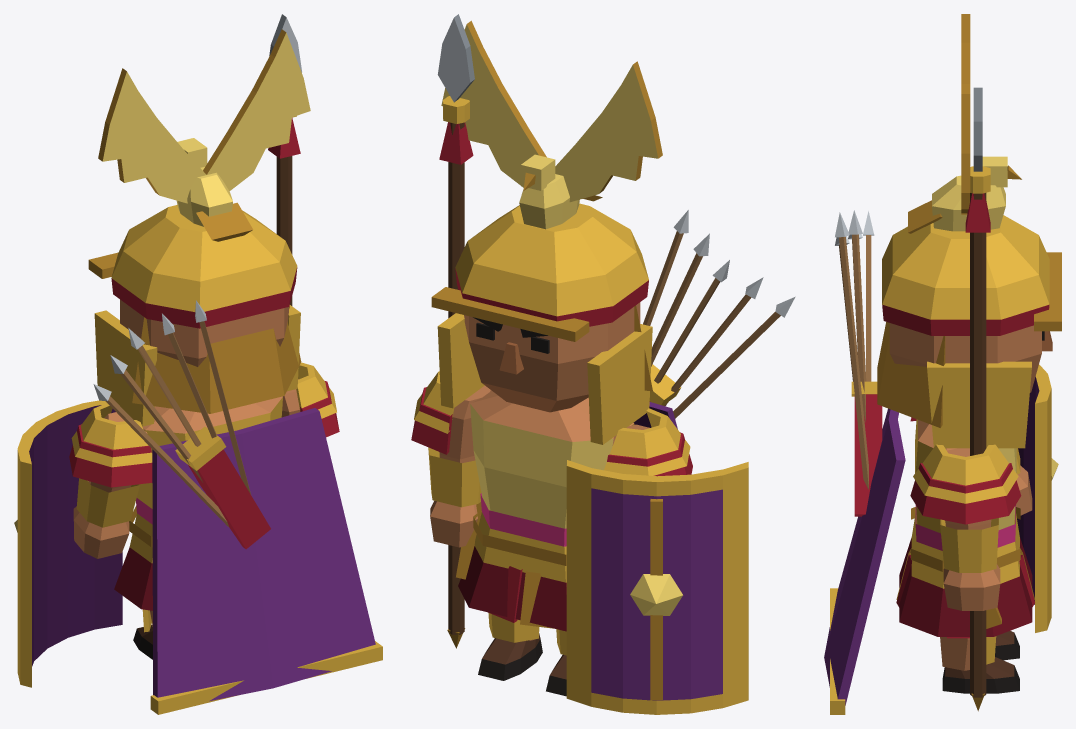
File: EN_EmperorsChampion.fbx
The picture shows the model from 3 angles, left to right: view 1: azimuth 30°, elevation 25°; view 2: azimuth 150°, elevation 25°; view 3: azimuth 270°, elevation 25°; orthographic projection. The views are drawn at different scales.
Visible parts, largest first — view 1: Body, Head, ArmL, WingR, WingL, Spear, ArmR, LegL; view 2: ArmL, Head, Body, ArmR, WingL, Spear, WingR, LegR, LegL; view 3: Head, Body, ArmR, Spear, ArmL, LegR, WingR, WingL, LegL.
Boxes of the visible parts, x1,y1,x2,y2 form: Body: (93, 300, 382, 714); Head: (88, 138, 301, 426); ArmL: (14, 400, 152, 687); WingR: (203, 29, 310, 191); WingL: (98, 68, 206, 203); Spear: (268, 14, 301, 305); ArmR: (281, 362, 339, 437); LegL: (133, 609, 152, 659); ArmL: (566, 408, 748, 714); Head: (431, 154, 652, 444); Body: (456, 210, 795, 631); ArmR: (411, 371, 490, 547); WingL: (555, 61, 662, 202); Spear: (437, 14, 474, 648); WingR: (441, 20, 546, 187); LegR: (478, 613, 542, 680); LegL: (546, 629, 566, 696); Head: (877, 156, 1061, 448); Body: (824, 210, 1034, 714); ArmR: (910, 444, 1021, 610); Spear: (965, 87, 990, 711); ArmL: (910, 364, 1058, 632); LegR: (940, 636, 1019, 693); WingR: (961, 94, 970, 214); WingL: (961, 14, 970, 93); LegL: (995, 631, 1019, 660).
Bounding box in the file's own units: 2.56 × 1.62 × 4.68.
